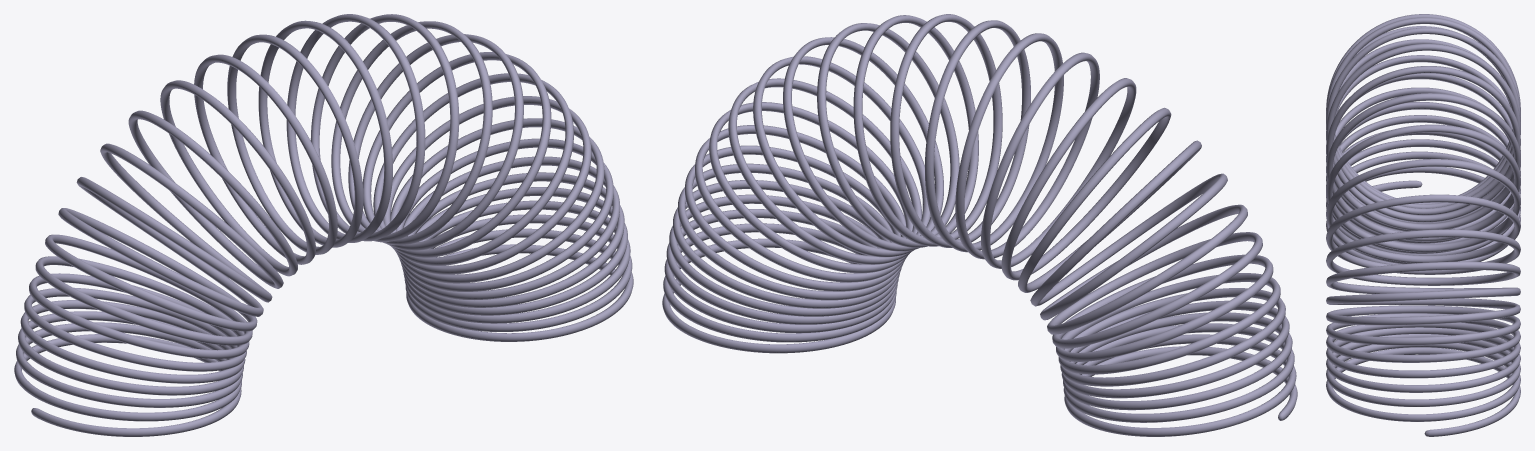
The model's file is slinky.glb.
3 renders of one model, left to right at view 1: azimuth 30°, elevation 25°; view 2: azimuth 150°, elevation 25°; view 3: azimuth 270°, elevation 25°, orthographic. The views are drawn at different scales.
Parts seen in each view (by area): view 1: Spiral.003_Mesh.002; view 2: Spiral.003_Mesh.002; view 3: Spiral.003_Mesh.002.
Part boxes in pixels (x1,y1,x2,y2): Spiral.003_Mesh.002: (14, 14, 633, 436); Spiral.003_Mesh.002: (662, 14, 1297, 436); Spiral.003_Mesh.002: (1326, 14, 1520, 436).
Size of the model in its own units: 11.99 by 6.21 by 4.02.
